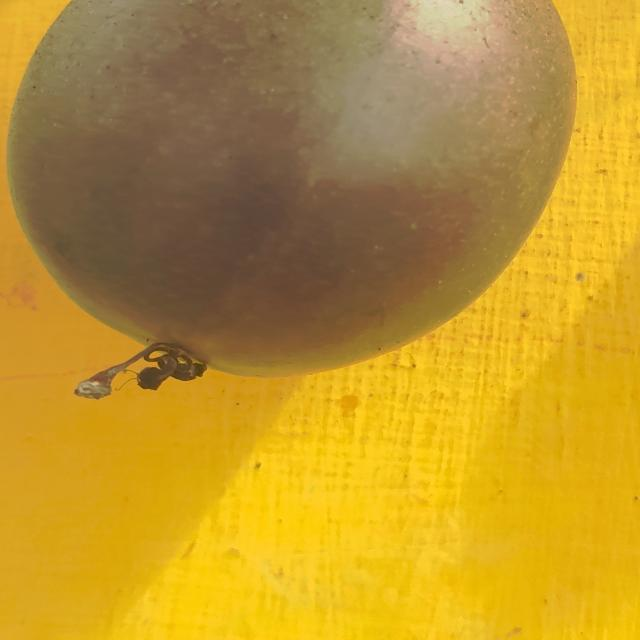Estado-3: (8, 0, 578, 402)
